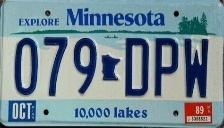0: (13, 35, 39, 96)
7: (42, 35, 71, 99)
9: (71, 36, 99, 97)
D: (124, 36, 151, 99)
P: (153, 36, 181, 98)
W: (182, 35, 212, 99)
